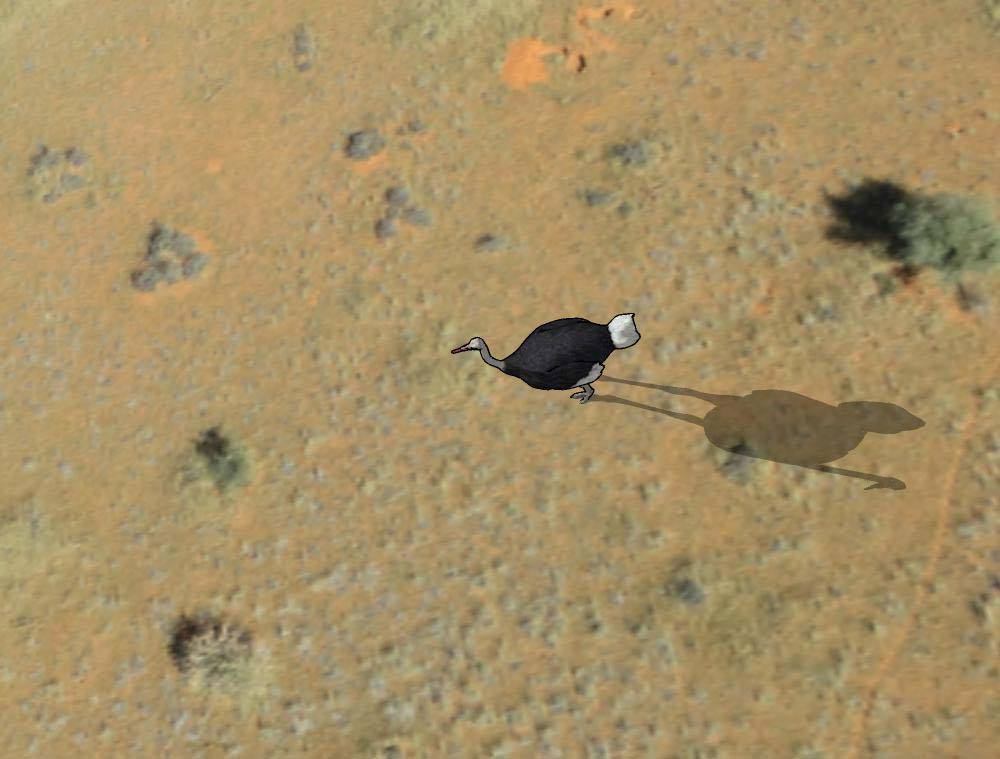springbok: (446, 308, 642, 409)
